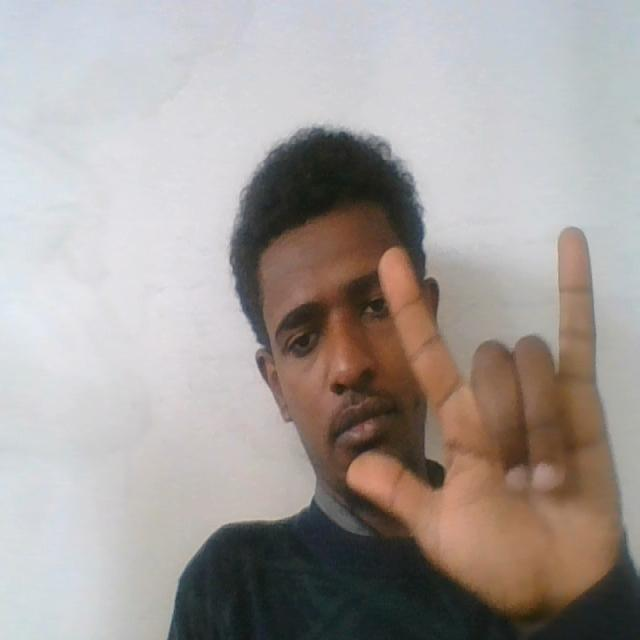iloveyou: (330, 228, 640, 603)
